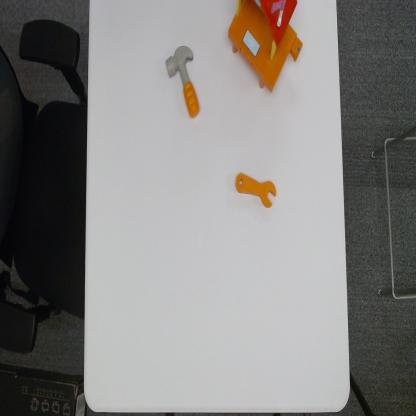Hammer: (165, 43, 201, 122)
House: (226, 0, 304, 98)
Screwdriver: (234, 168, 277, 211)
